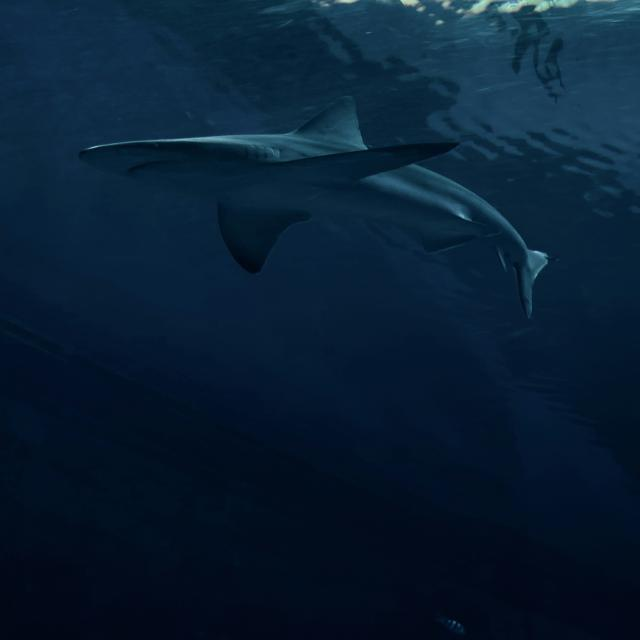gaviota: (79, 96, 547, 312)
